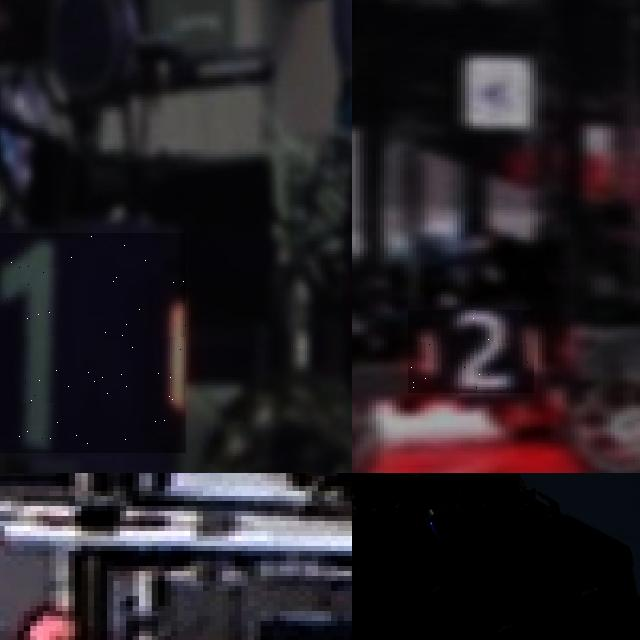R1: (0, 232, 186, 453)
R2: (408, 310, 534, 394)
